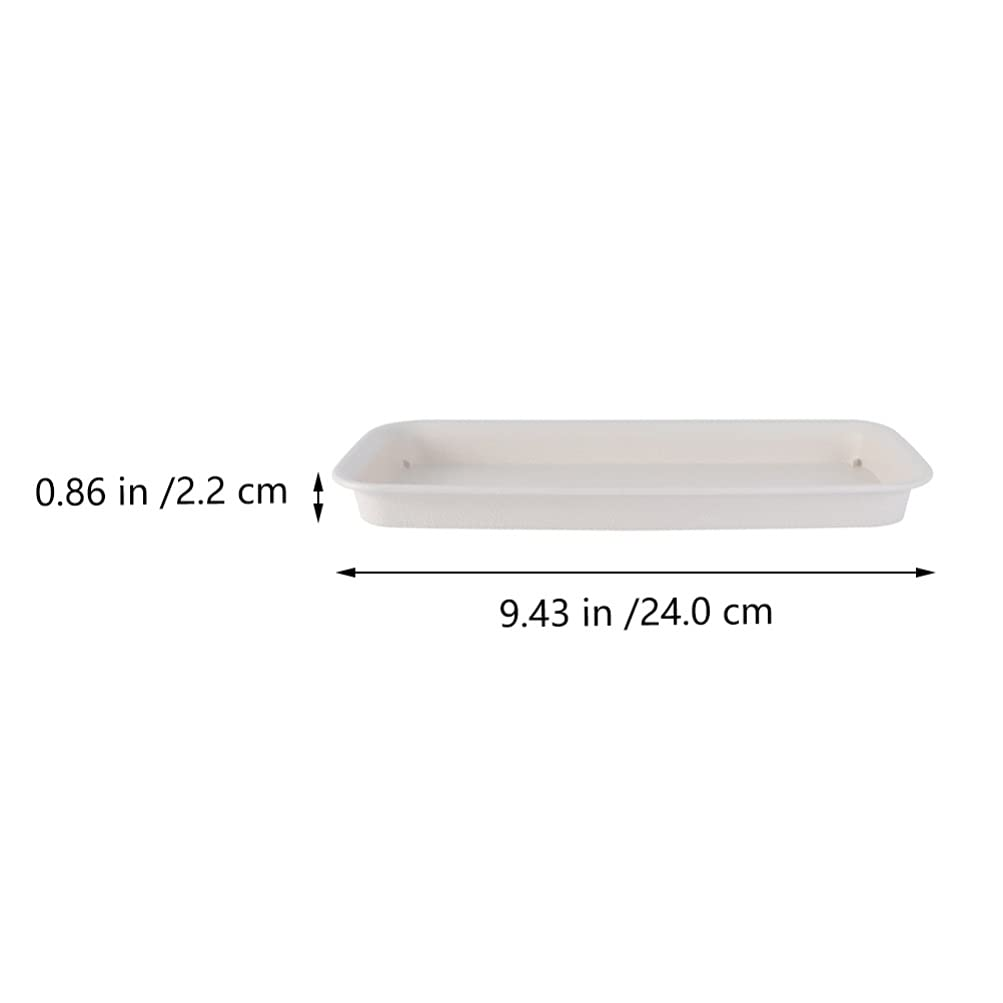/24.0: (624, 596, 710, 631)
9.43: (500, 598, 569, 628)
cm: (723, 603, 772, 625)
in: (583, 597, 612, 627)
